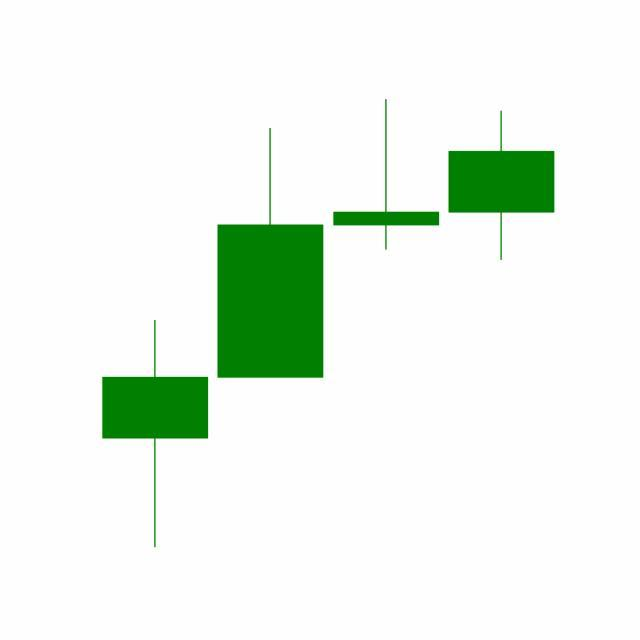Spinning Top: (329, 98, 445, 253)
